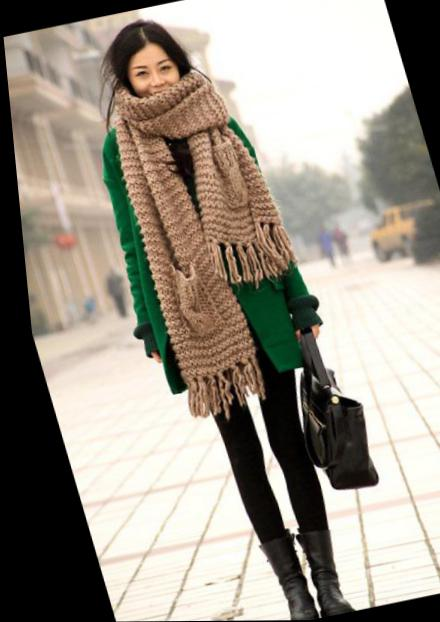WRONG: (120, 53, 192, 121)
